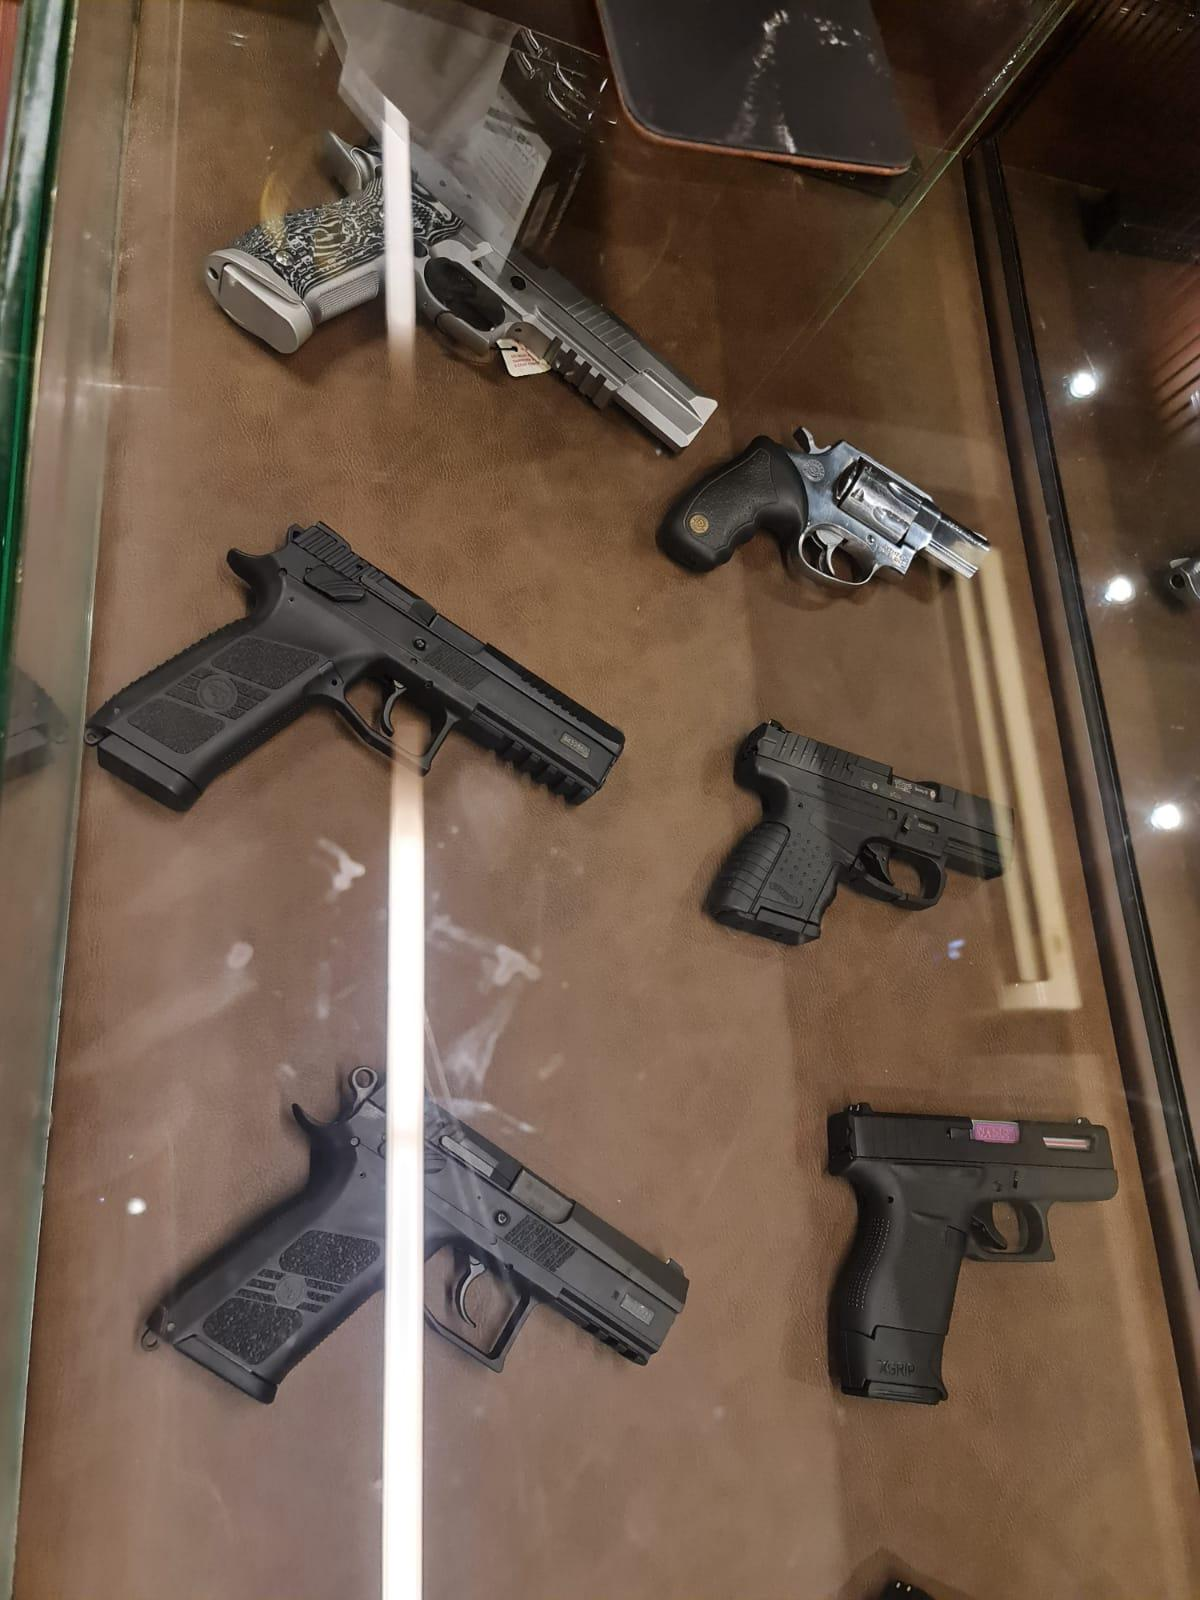weapon: (146, 1065, 701, 1401), (200, 127, 713, 456), (87, 514, 632, 814), (823, 1104, 1121, 1406), (706, 717, 1031, 944), (655, 425, 991, 592)
